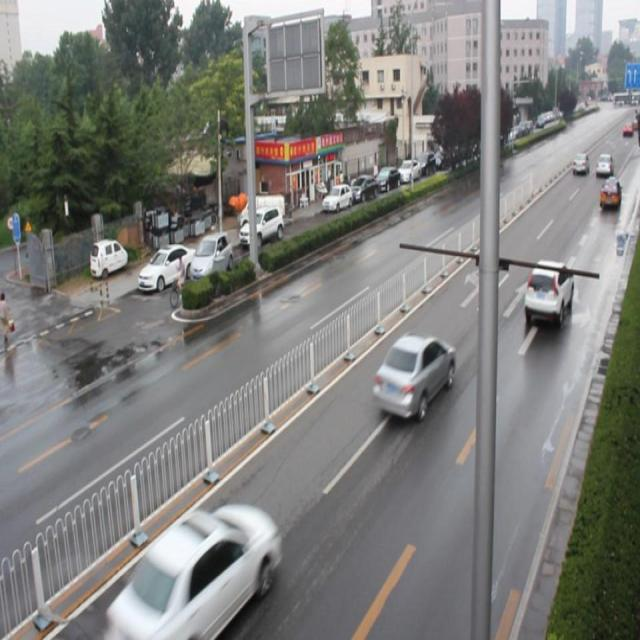car: (108, 507, 280, 628), (374, 334, 454, 421), (524, 256, 571, 328), (598, 176, 620, 209)
